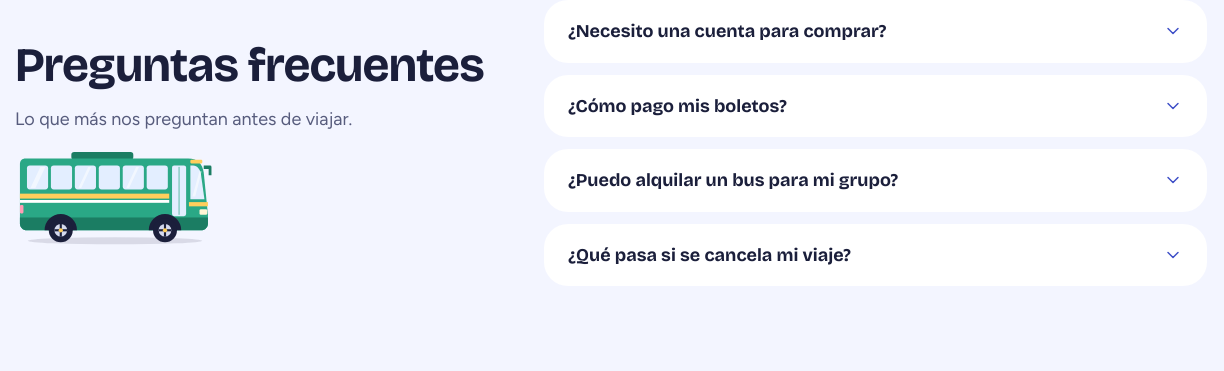
Faq › opens a question and closes it again when its summary is activated
The width and height of the screenshot is (1224, 371).
Click the heading "¿Cómo pago mis boletos?": [678, 106] box [568, 94, 1183, 116]
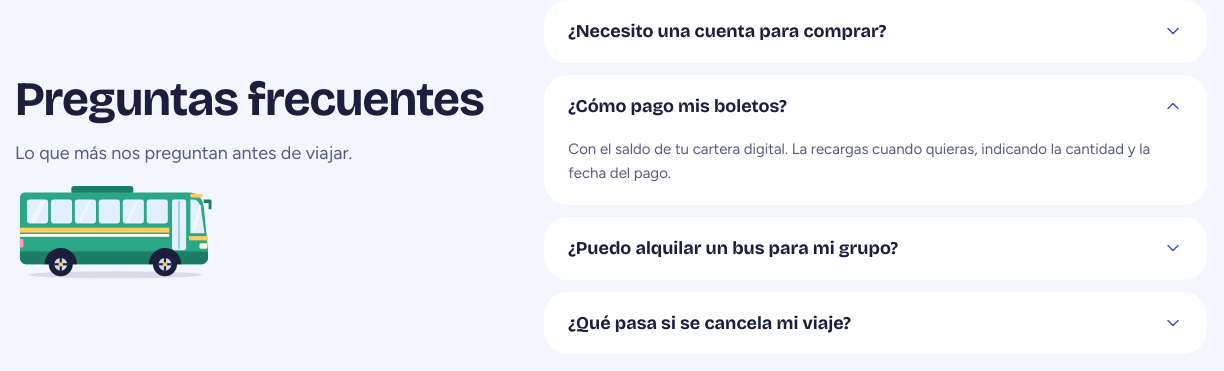
Expected: the text "¿Cómo pago mis boletos?" has attribute open, [544, 74, 1207, 205]
Click the heading "¿Cómo pago mis boletos?": [678, 106] box [568, 94, 1183, 116]
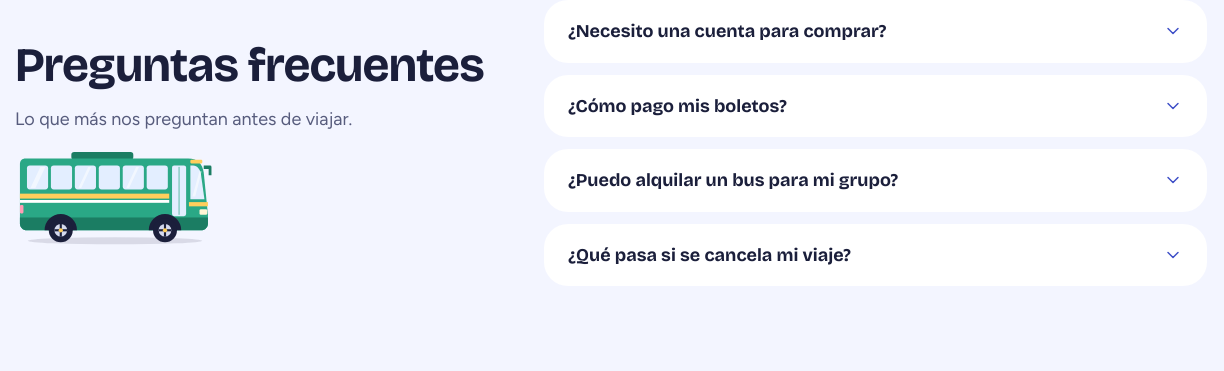
Expected: the text "¿Cómo pago mis boletos?" does not have attribute open, [544, 74, 1207, 137]
